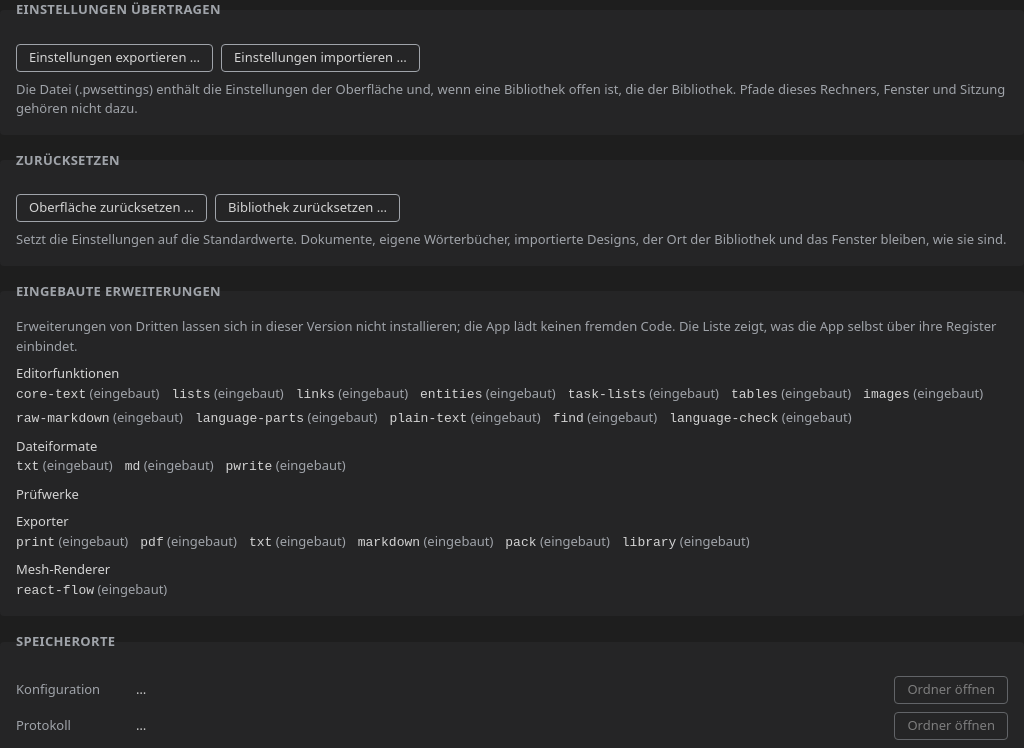
Scenario: AdvancedSettings › resets only after a confirmation
The width and height of the screenshot is (1024, 748).
Click the button with test id "settings-reset-app": (112, 208) [16,194,207,222]
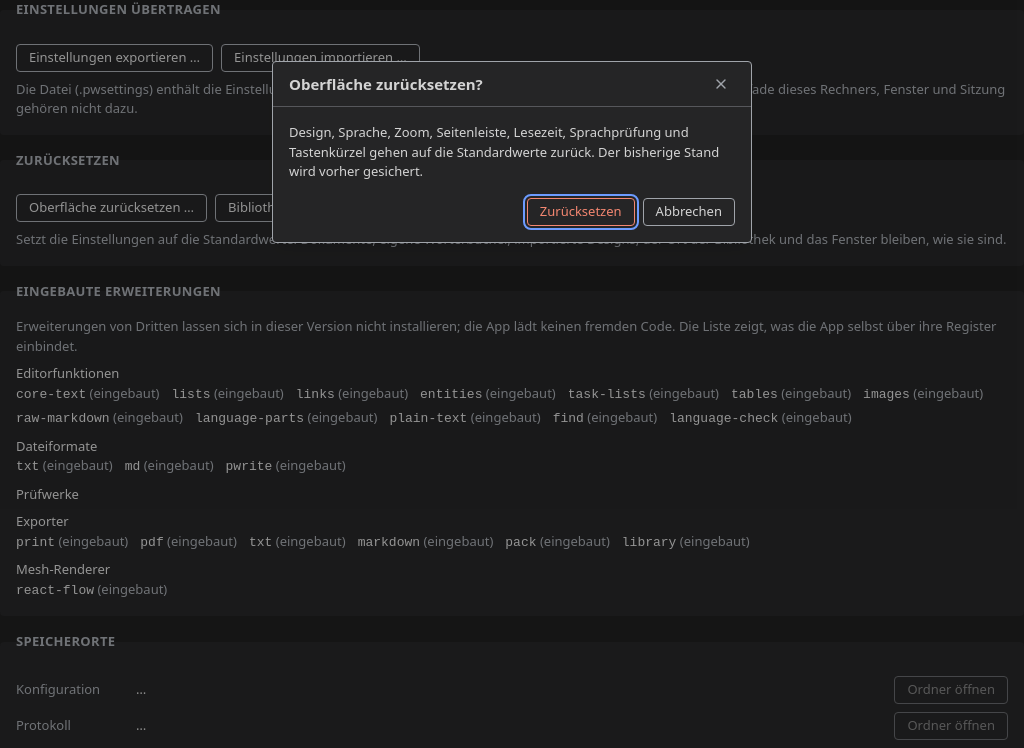
Click the button "Abbrechen": (689, 212) [643,198,735,226]
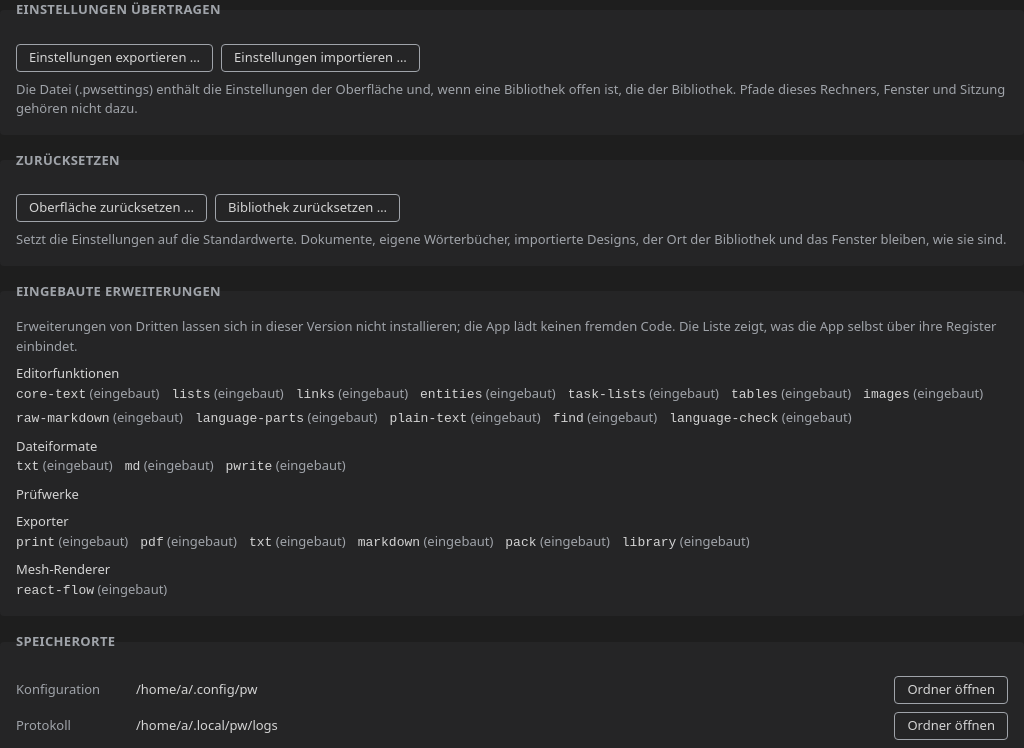
Click the button with test id "settings-reset-app": (112, 208) [16,194,207,222]
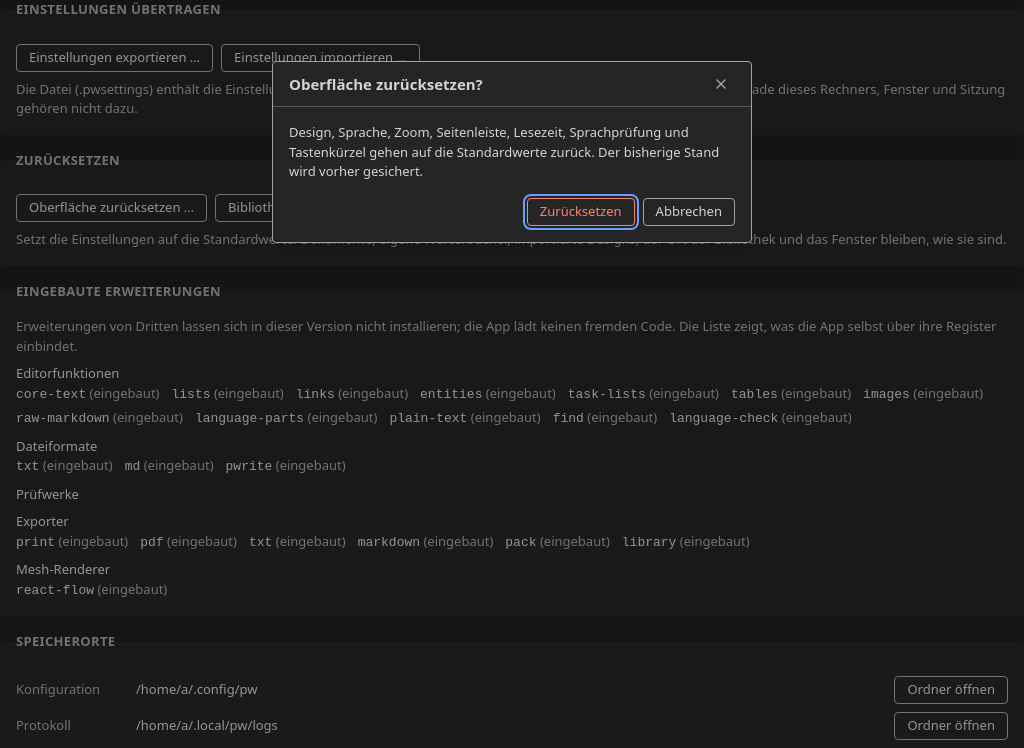
Click the button "Zurücksetzen": (581, 212) [527,198,635,226]
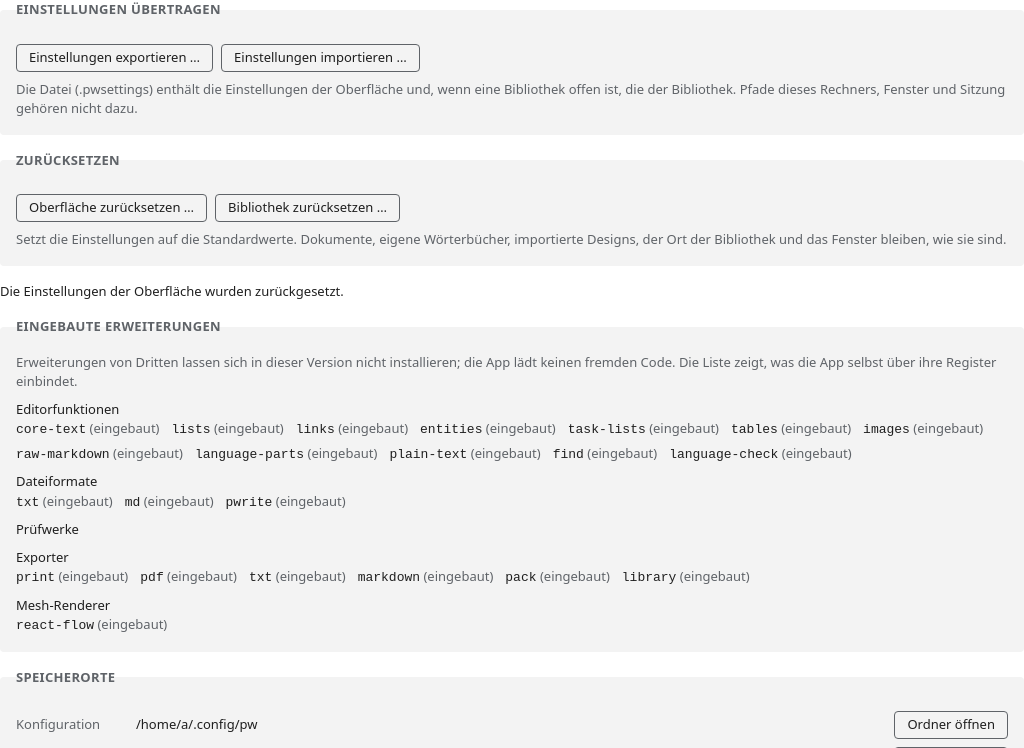
Now the text "Die Einstellungen der Oberfläche wurden zurückgesetzt." is shown, box [0,282,344,300]
